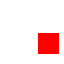square: (38, 33, 58, 53)
